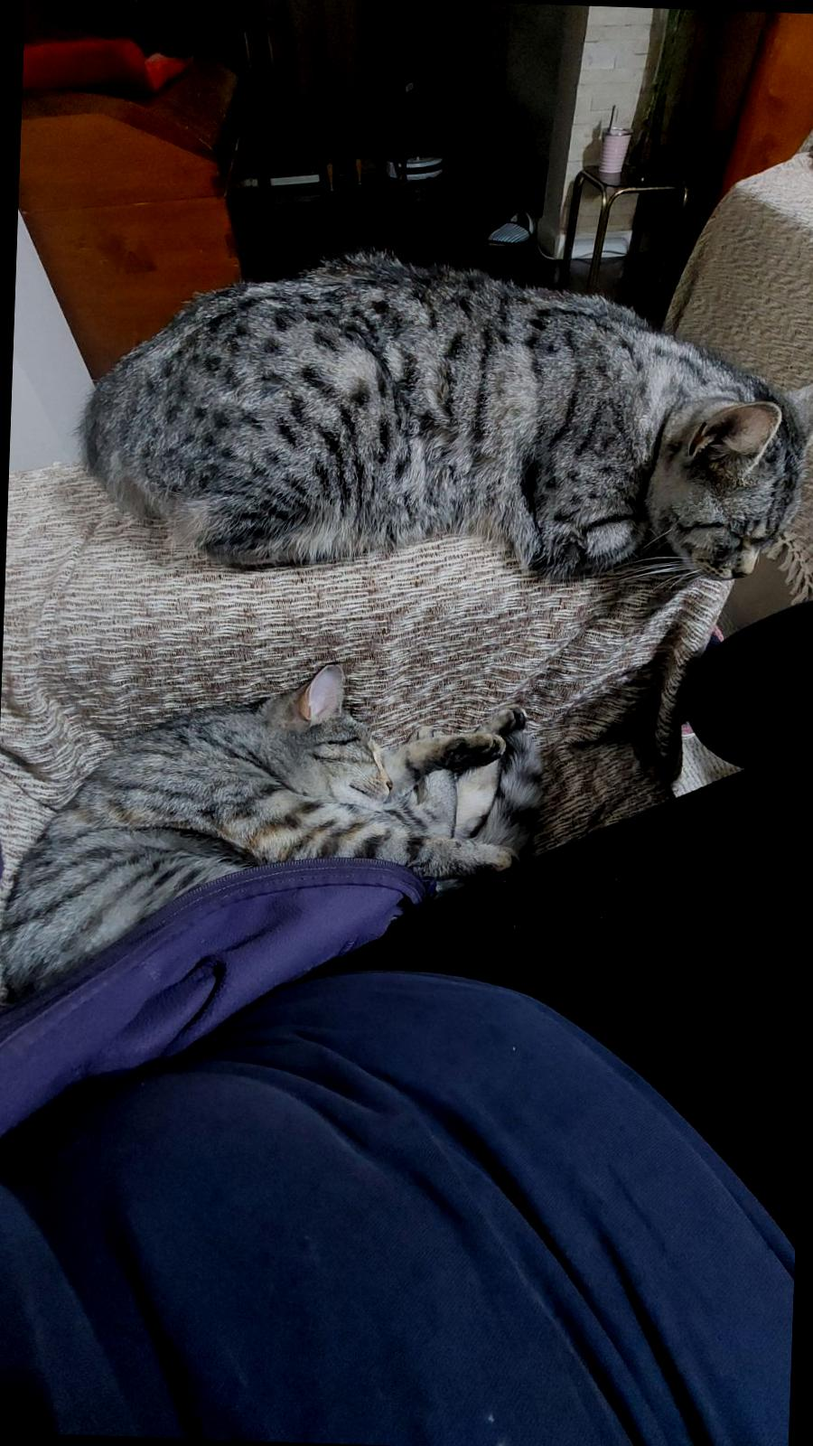macka: (78, 242, 813, 589), (0, 651, 541, 1036)
